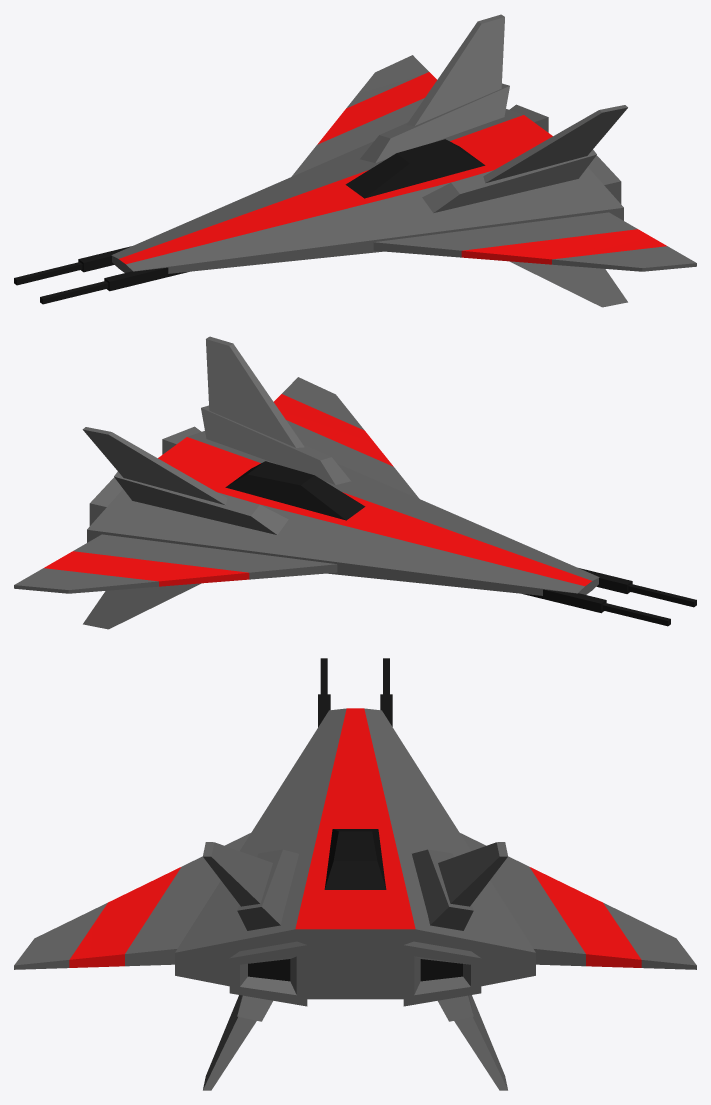
The model's file is Cellex.FBX.
3 renders of one model, top to bottom at view 1: azimuth 30°, elevation 25°; view 2: azimuth 150°, elevation 25°; view 3: azimuth 270°, elevation 25°, orthographic. The views are drawn at different scales.
Parts seen in each view (by area): view 1: 1; view 2: 1; view 3: 1.
Part boxes in pixels (x1,y1,x2,y2): 1: (14,14,696,307); 1: (14,336,696,629); 1: (14,658,696,1090).
Size of the model in its own units: 105 by 36.22 by 95.81.
